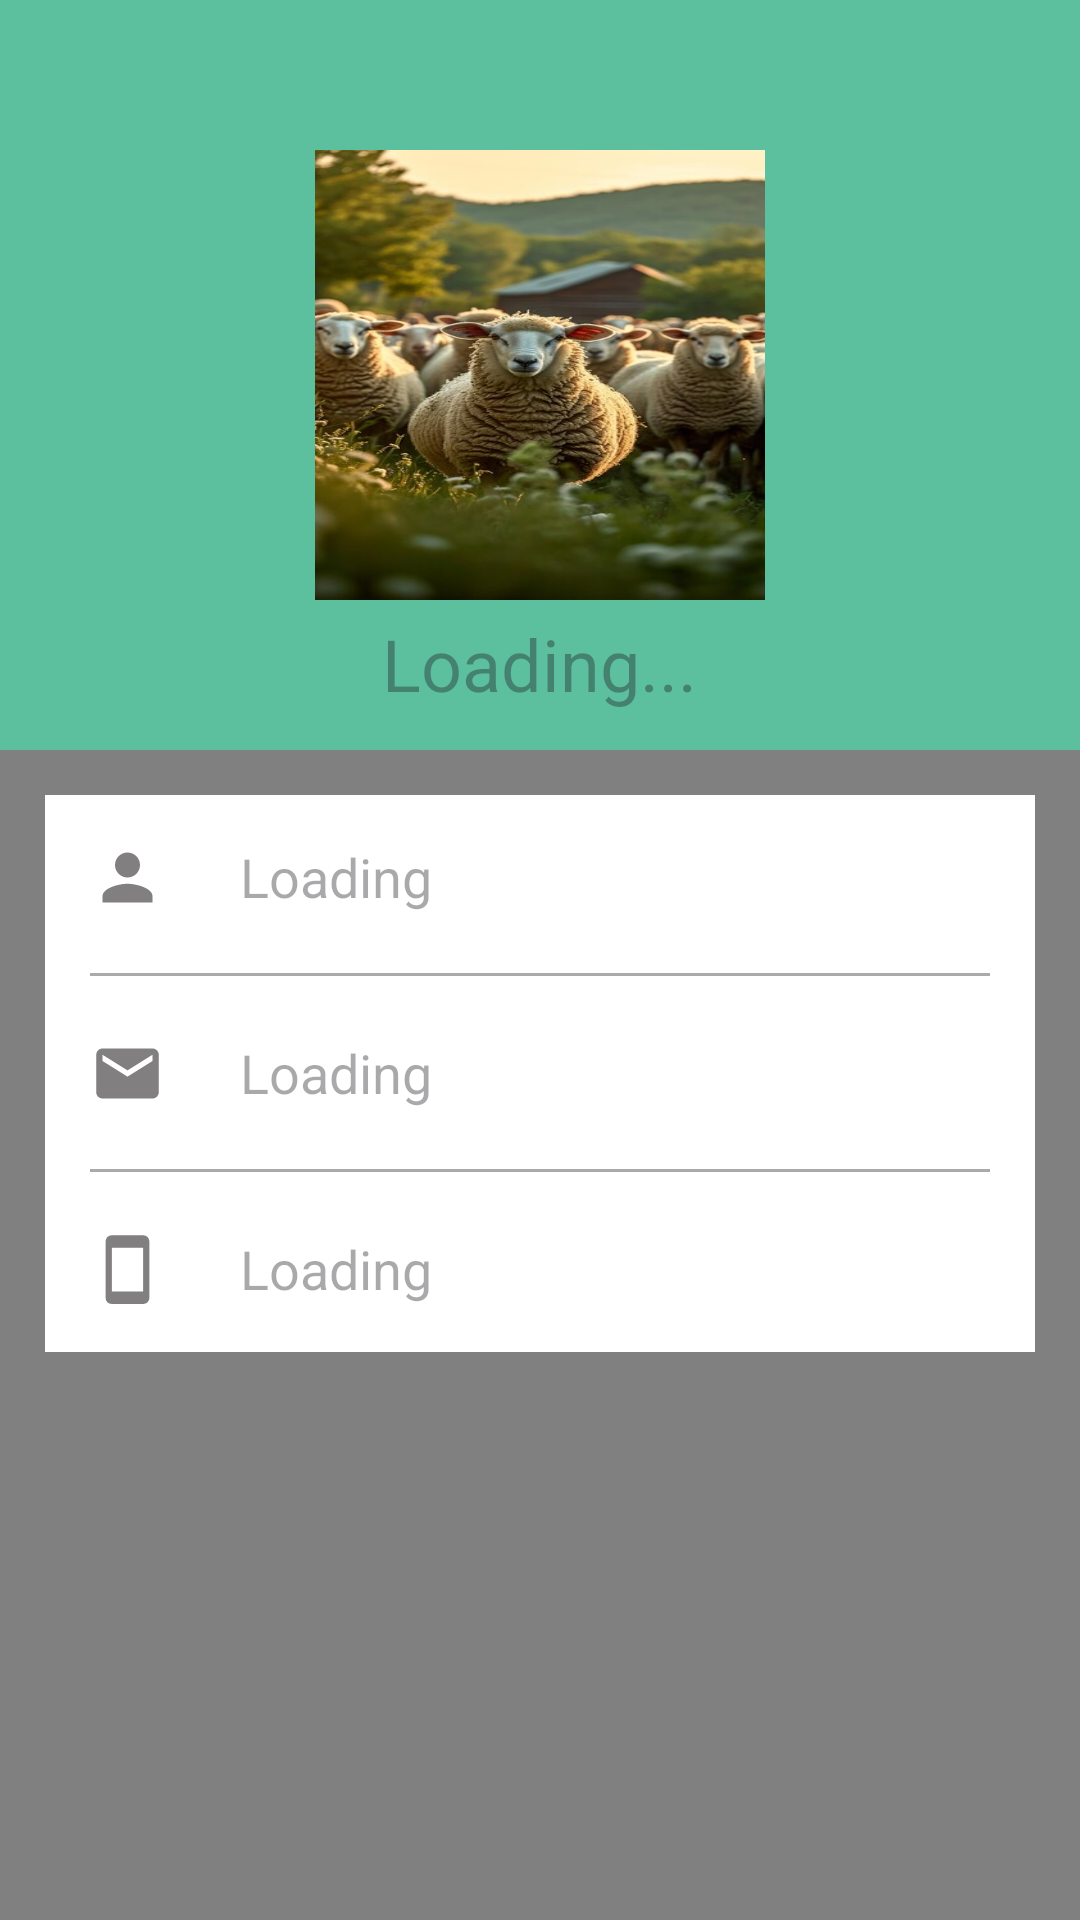

Icons on this 1080px×1920px Android screen, each with the point to tap as (x,y):
email: (127,1073)
person: (127,877)
phone: (127,1269)
